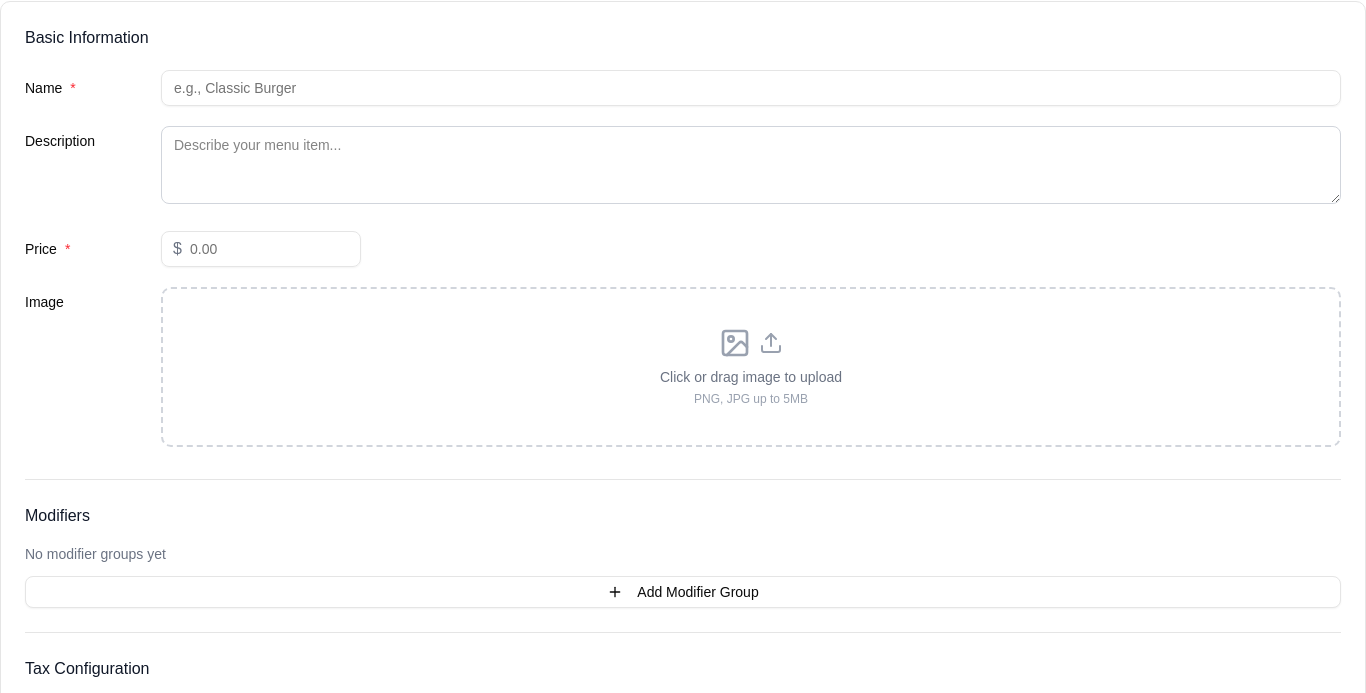
Test: MenuItemFormPage › Error Handling › should display error message from server action
The image size is (1366, 693).
Type "Test Item" into the field labelled "Name *". click: (751, 88)
box: [161,70,1341,106]
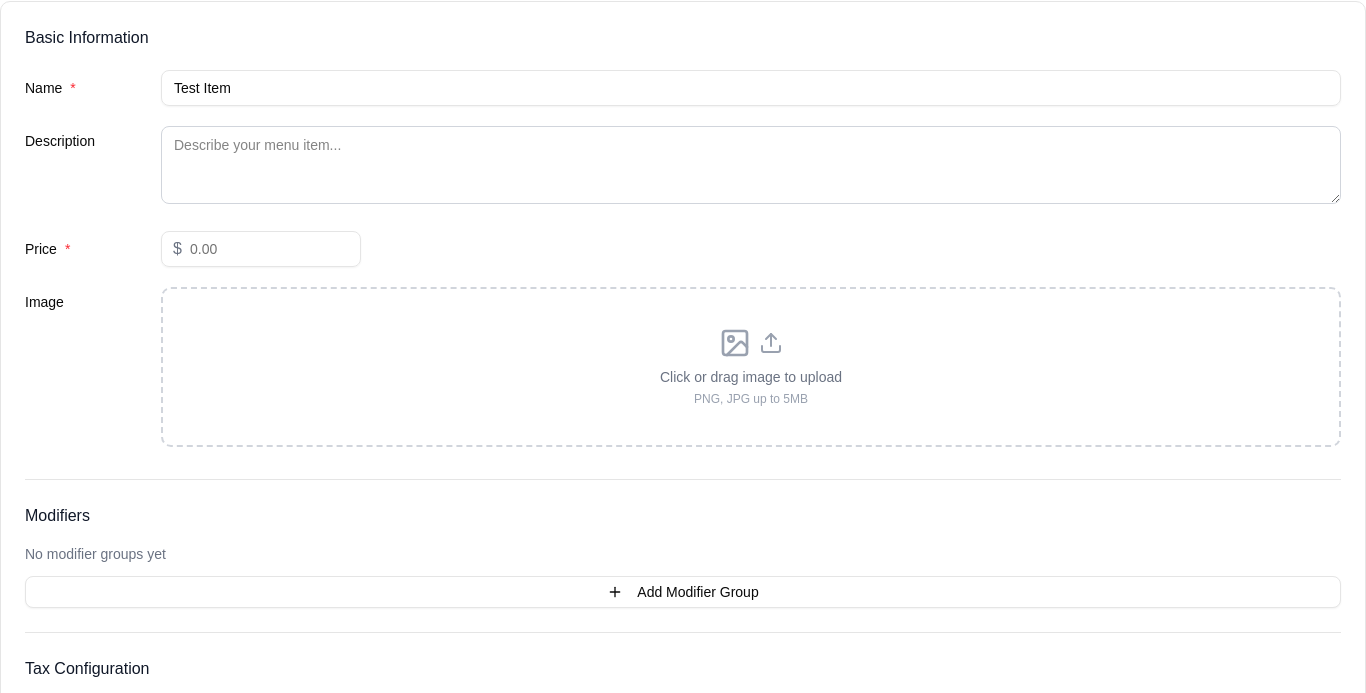
Type "10.00" into the number field labelled "Price *". click: (261, 249)
box: [161,231,361,267]
(page scrolled)
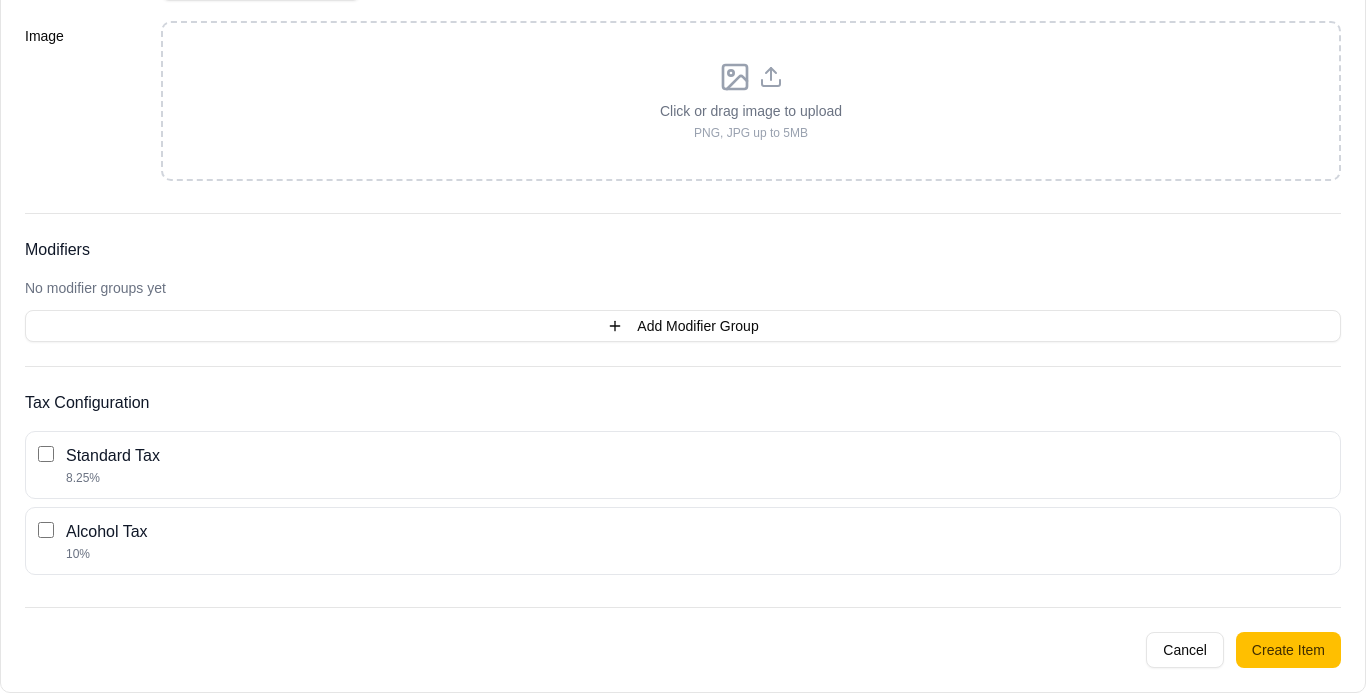
Click the button "Create Item". click: (1288, 650)
box: [1236,632,1341,668]
(page scrolled)
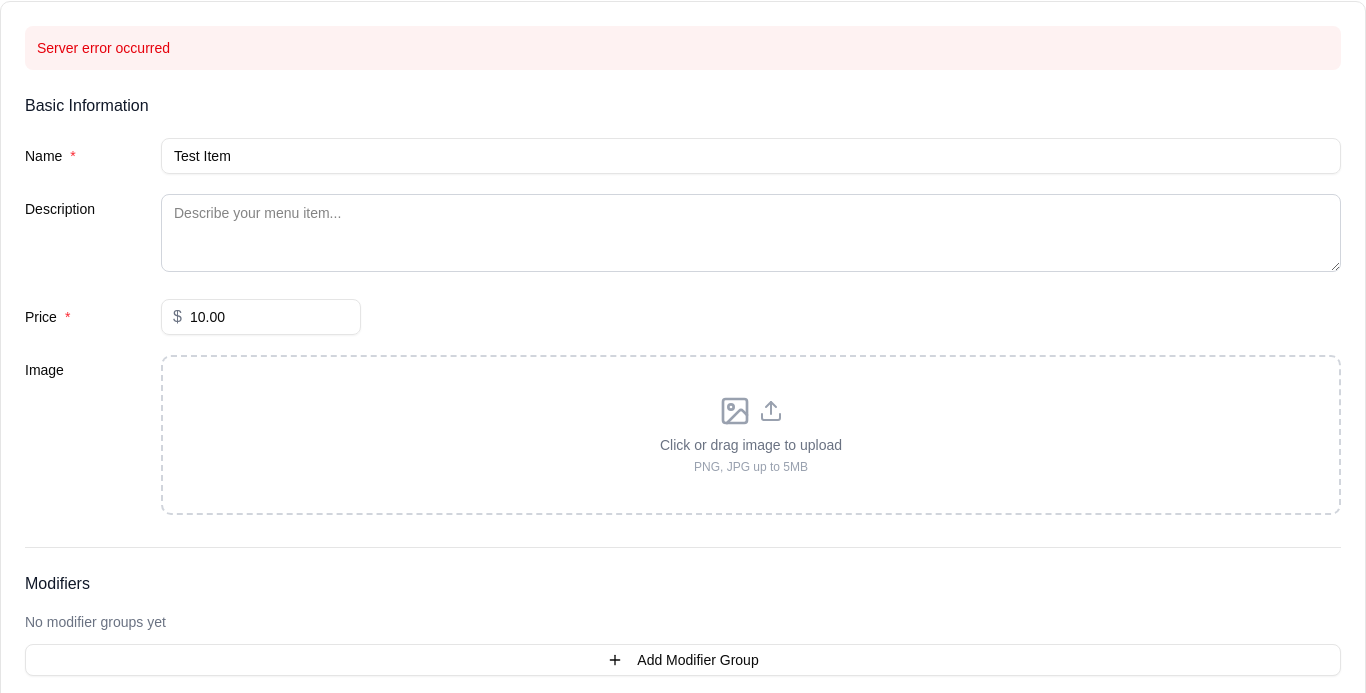
Expected: the text "Server error occurred" is shown, [25,26,1341,70]
